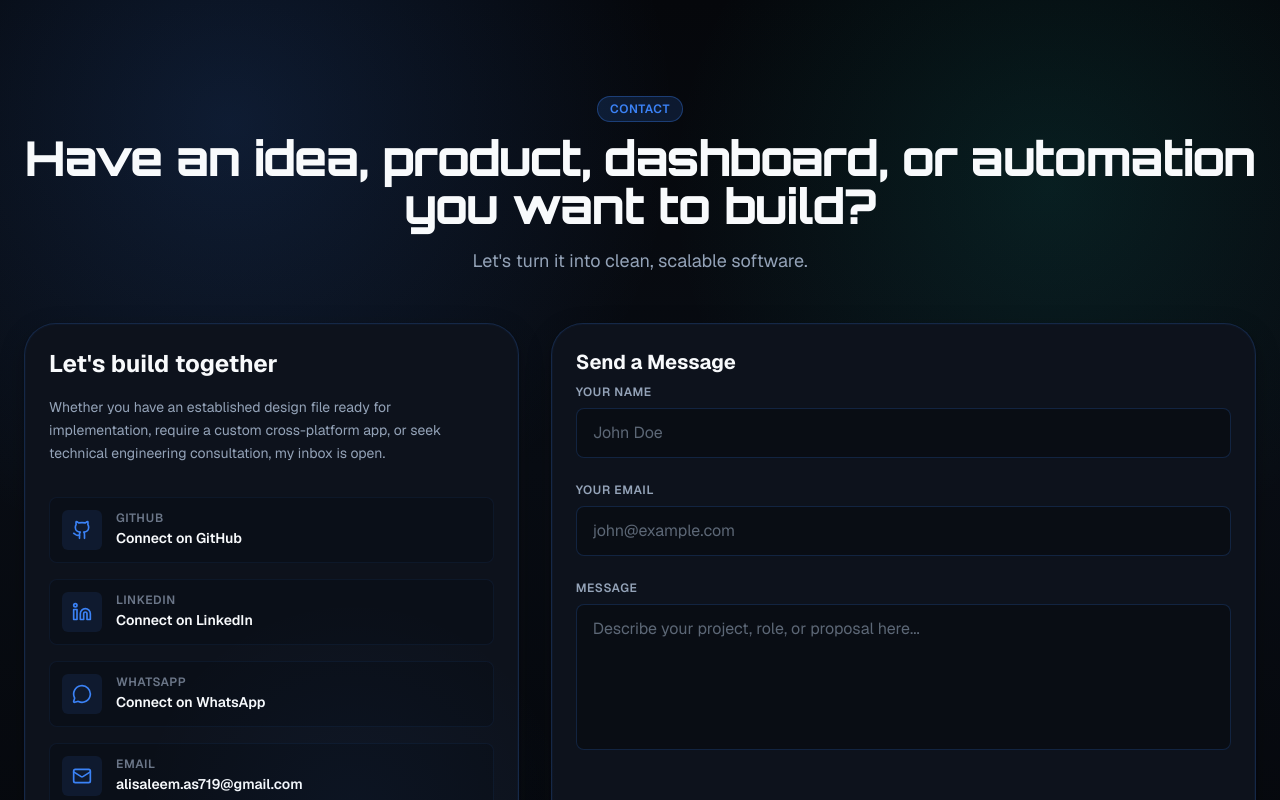
it: Contact › shows the error message when the action fails
Type "Jane Doe" into the field labelled "Your Name" at [903, 433], box x1=576 y1=408 x2=1231 y2=458
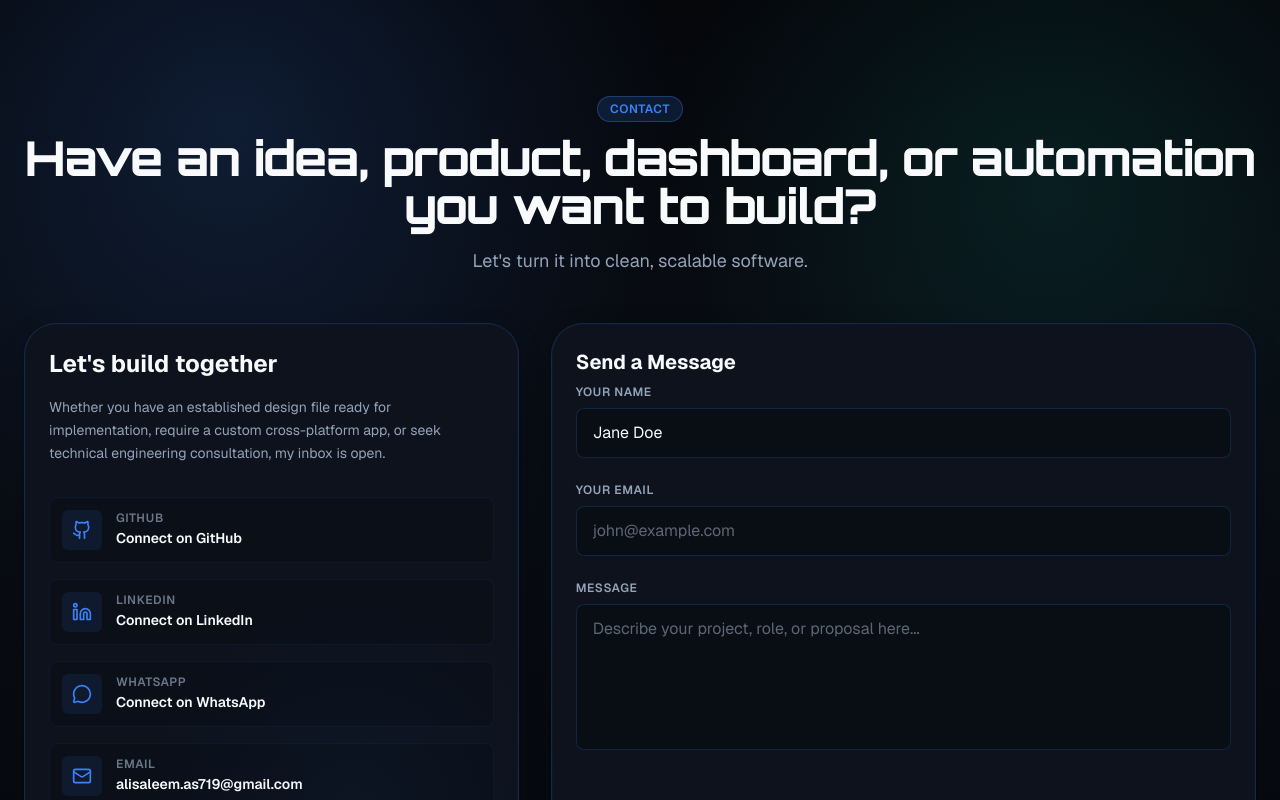
Type "jane@example.com" into the field labelled "Your Email" at [903, 531], box x1=576 y1=506 x2=1231 y2=556
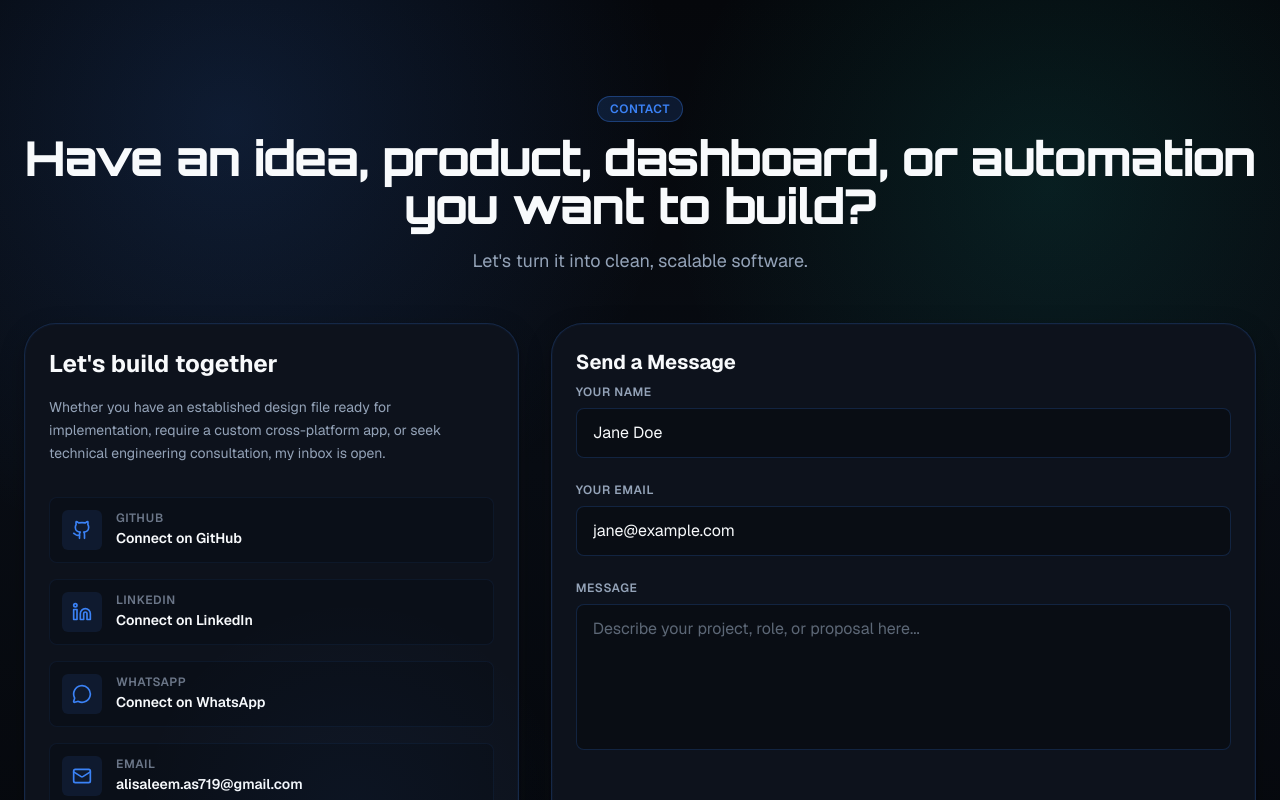
Type "Hello, let's build something." into the text box labelled "Message" at [903, 677], box x1=576 y1=604 x2=1231 y2=750
(page scrolled)
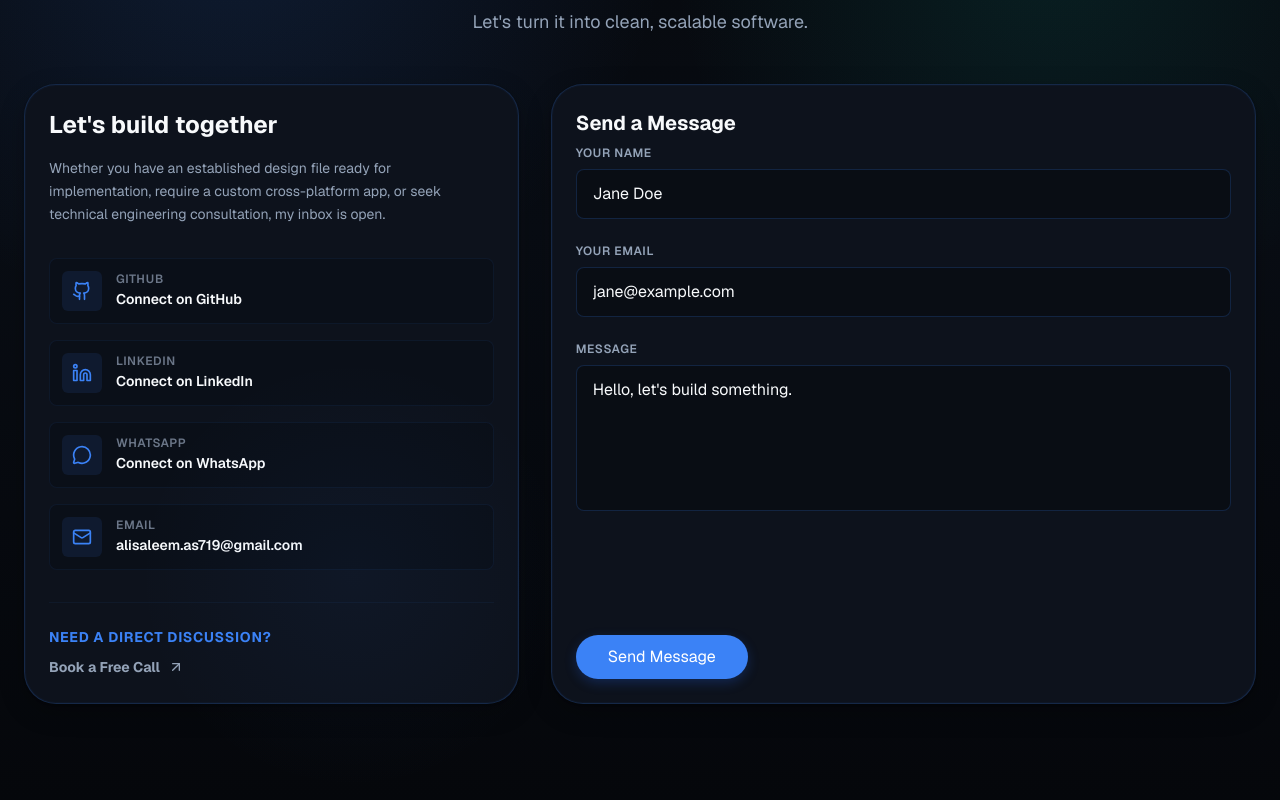
Click the button "Send Message" at [662, 656], box x1=576 y1=634 x2=748 y2=678
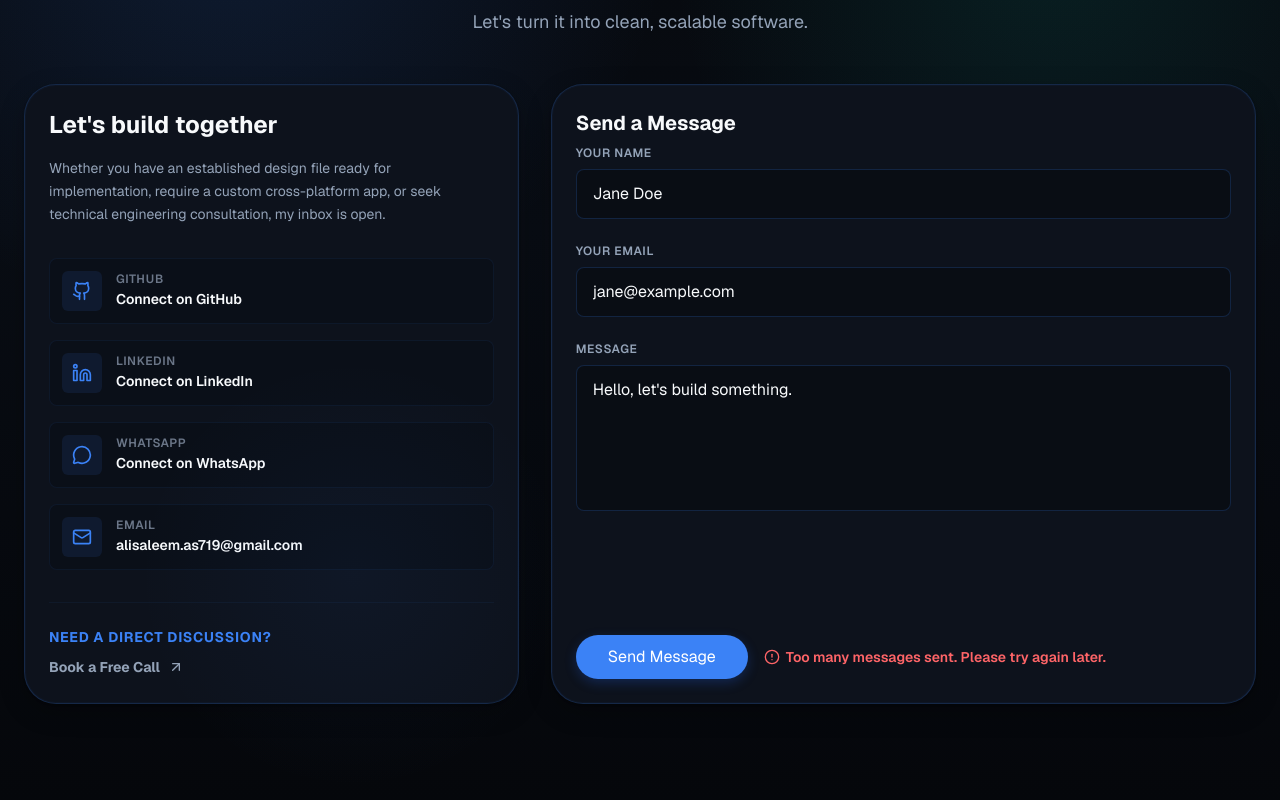
Expected: the message shows "Too many messages sent", x1=786 y1=648 x2=1106 y2=666
